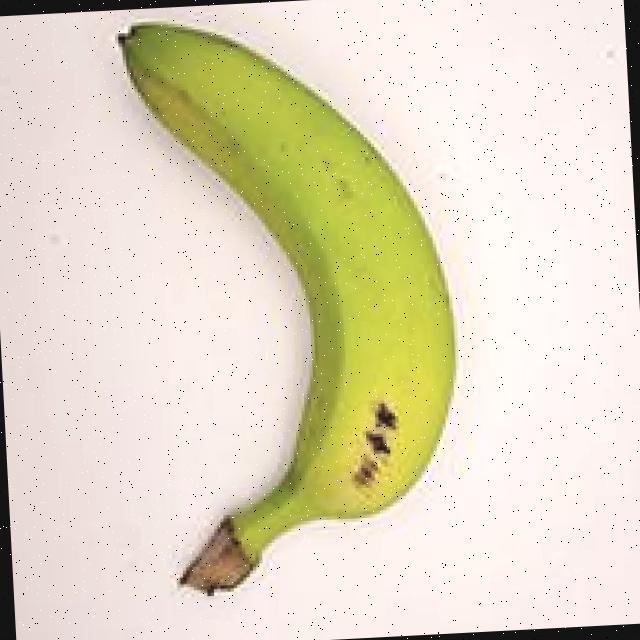Unripe: (47, 0, 508, 619)
